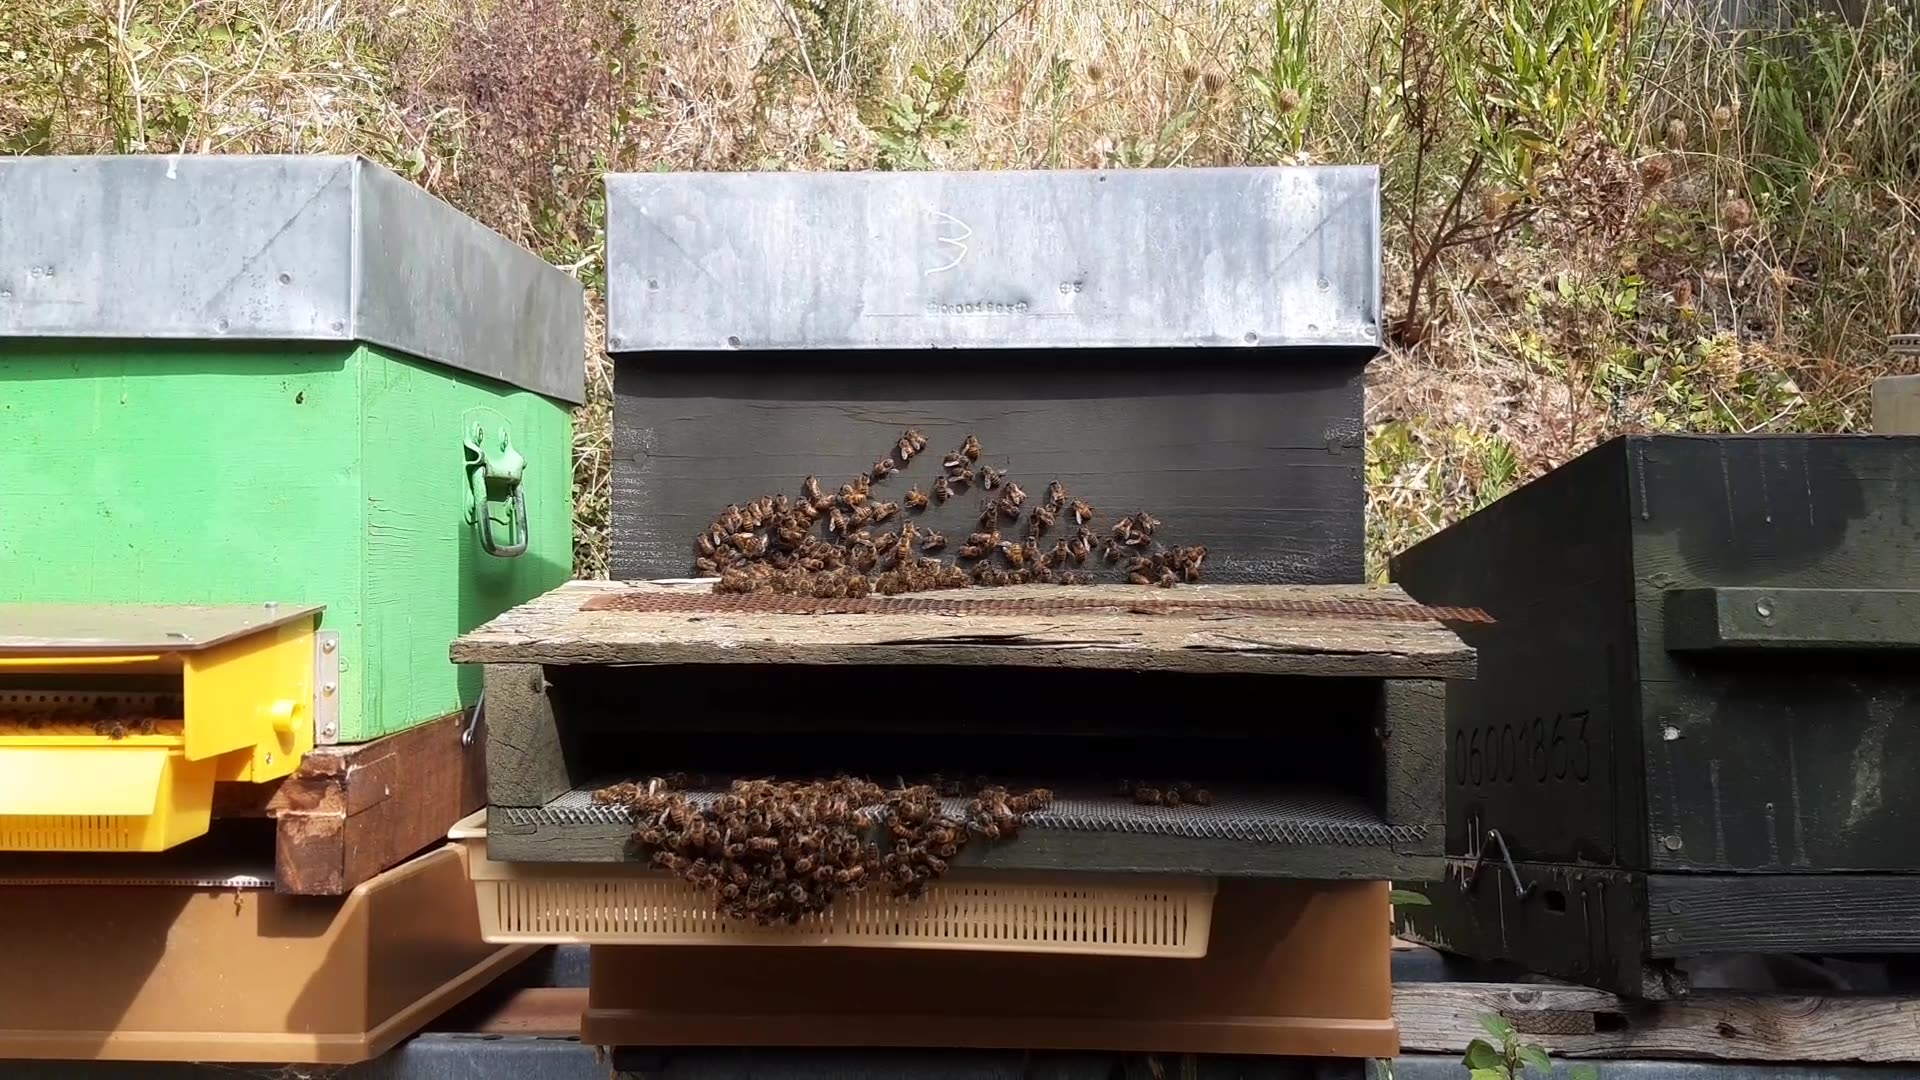bee: (596, 775, 698, 841), (732, 868, 811, 945), (880, 856, 969, 920), (728, 775, 822, 832), (942, 527, 1022, 591), (861, 531, 932, 596), (961, 779, 1038, 837), (1108, 524, 1185, 578), (666, 862, 732, 924), (1018, 516, 1095, 567), (725, 512, 798, 564), (928, 464, 992, 512), (877, 465, 942, 509), (1029, 493, 1087, 535), (897, 426, 947, 468), (764, 495, 824, 529)
